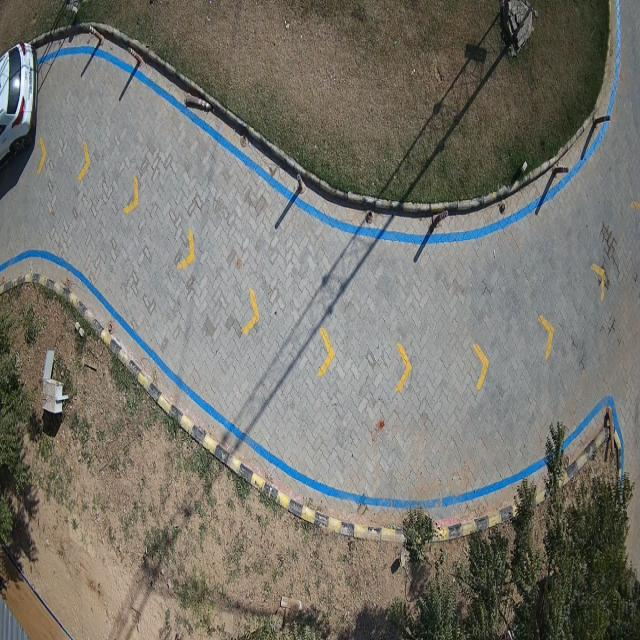car: (0, 42, 38, 161)
